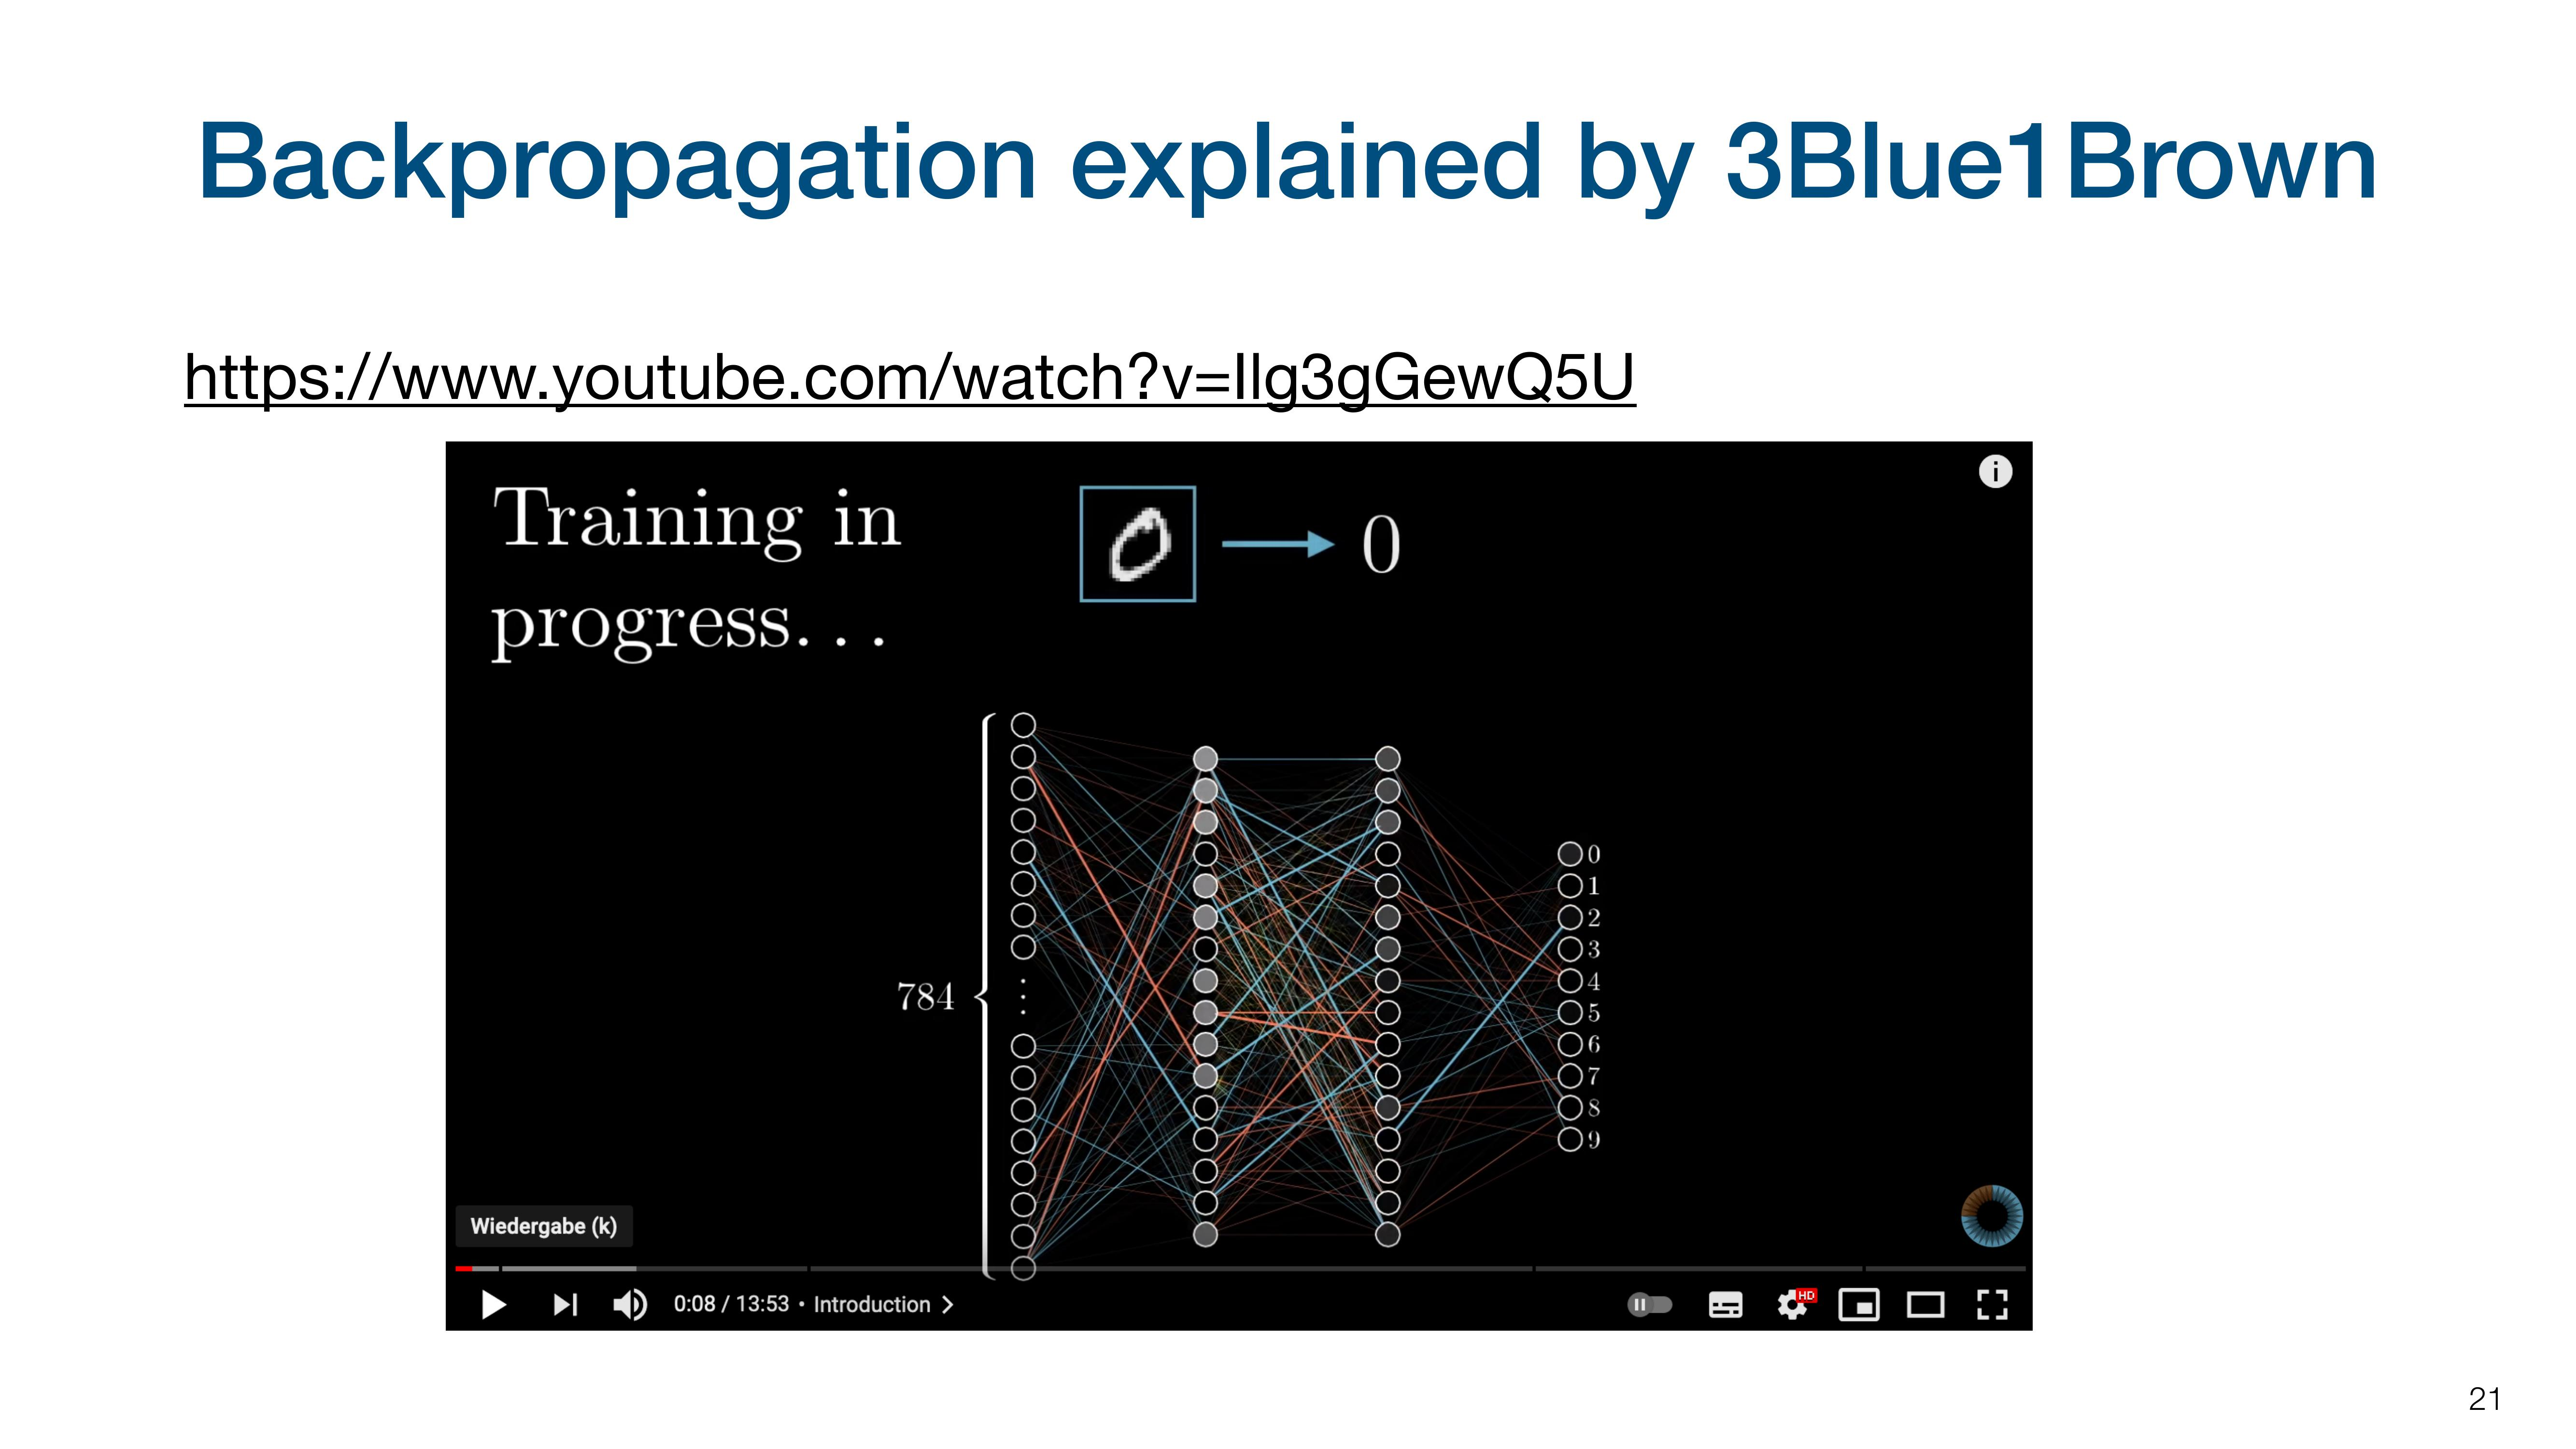Title: (191, 106, 2378, 239)
